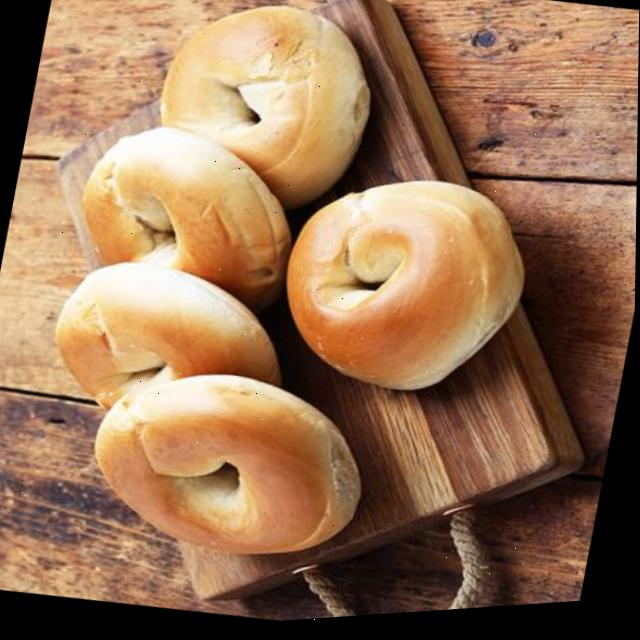Bagel: (288, 185, 525, 395), (97, 376, 362, 557), (162, 9, 370, 211), (83, 129, 291, 313), (57, 263, 282, 410)
